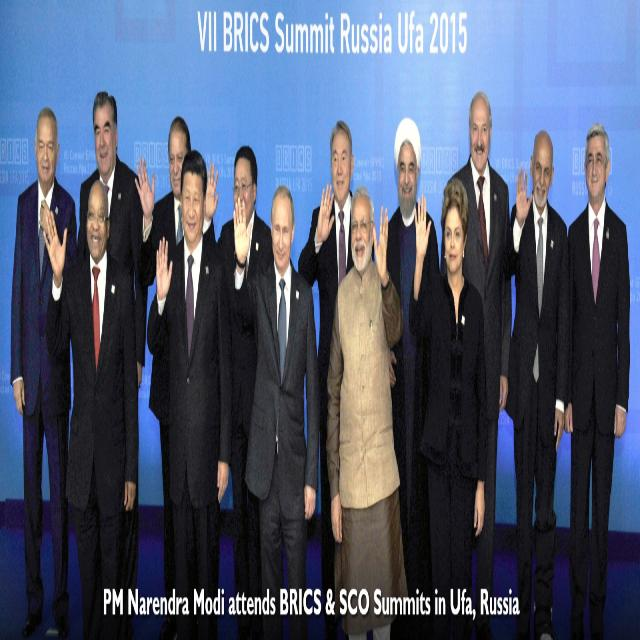body: (43, 177, 139, 640), (144, 144, 233, 639), (297, 116, 376, 639), (232, 182, 320, 640), (322, 181, 408, 639), (439, 86, 513, 616), (406, 170, 489, 639), (560, 117, 634, 639), (8, 99, 79, 639), (502, 126, 572, 639), (203, 141, 273, 638), (133, 114, 192, 640), (384, 113, 440, 639), (75, 87, 149, 396)
